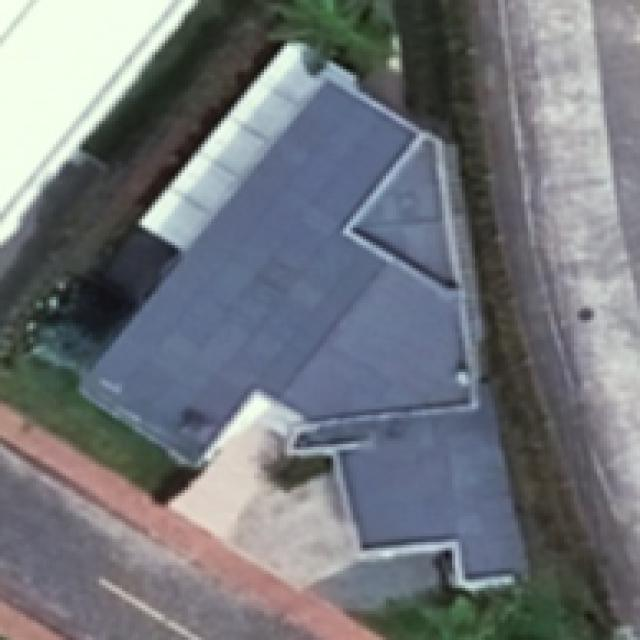Batiment: (82, 45, 525, 587)
